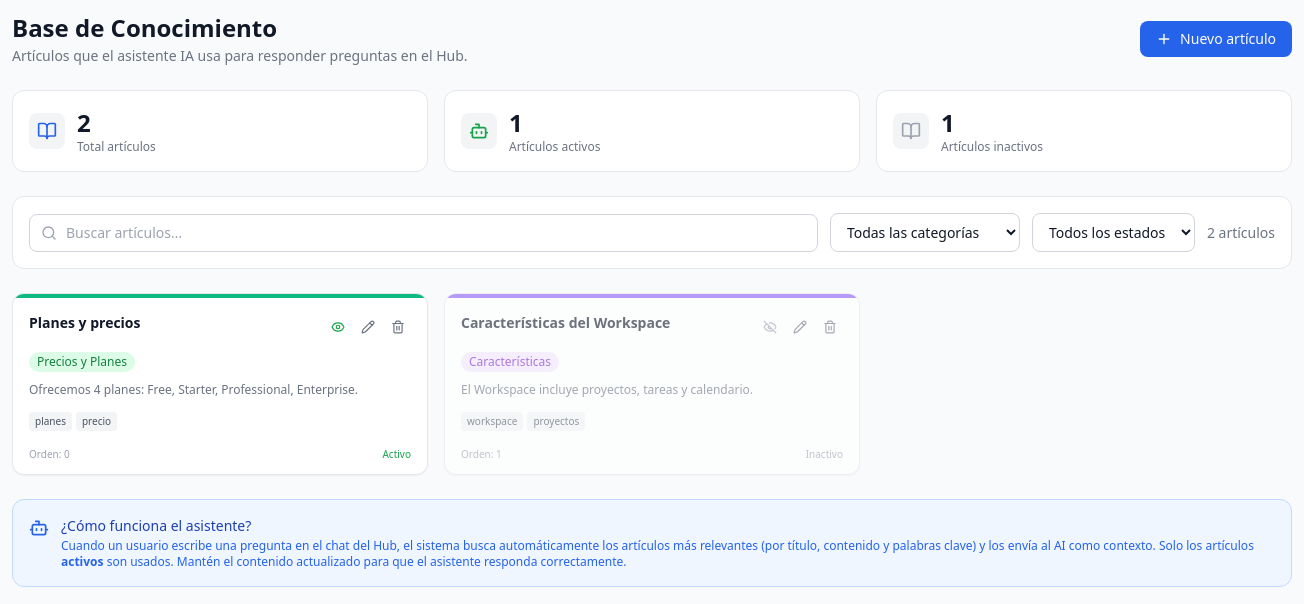
Test: KnowledgeBasePage › filters articles by search text
Type "workspace" into the field with placeholder "Buscar artículos…" at (423, 232), box [29, 214, 818, 252]
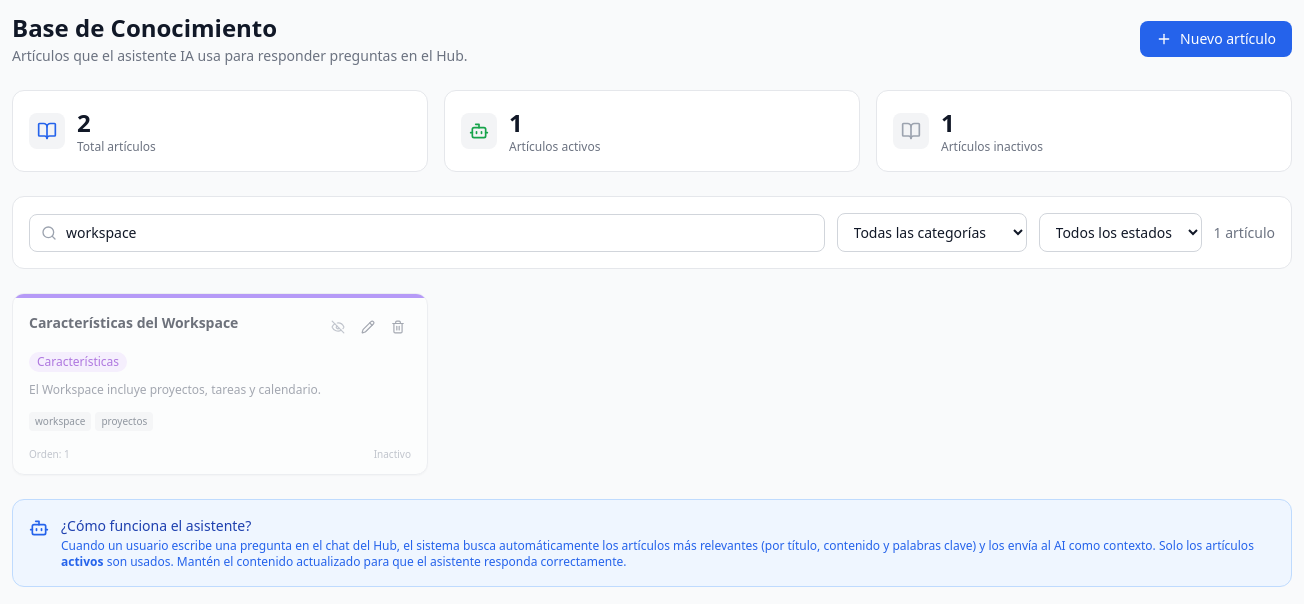
Expected: the heading "Características del Workspace" is shown, [29, 314, 238, 332]
Expected: the heading "Planes y precios" is gone
